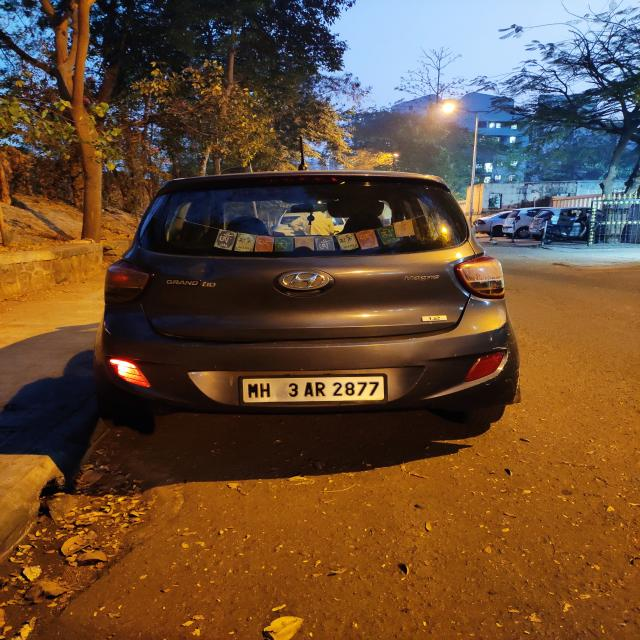Number-Plate: (244, 376, 386, 403)
